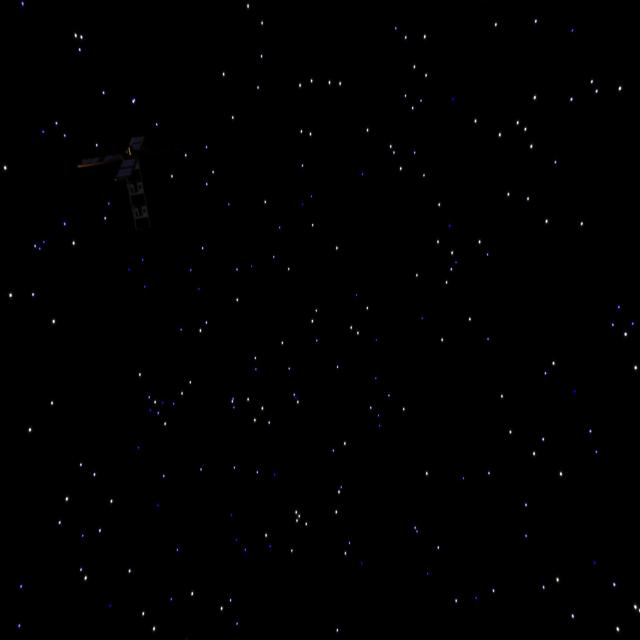satellite: (72, 140, 179, 229)
